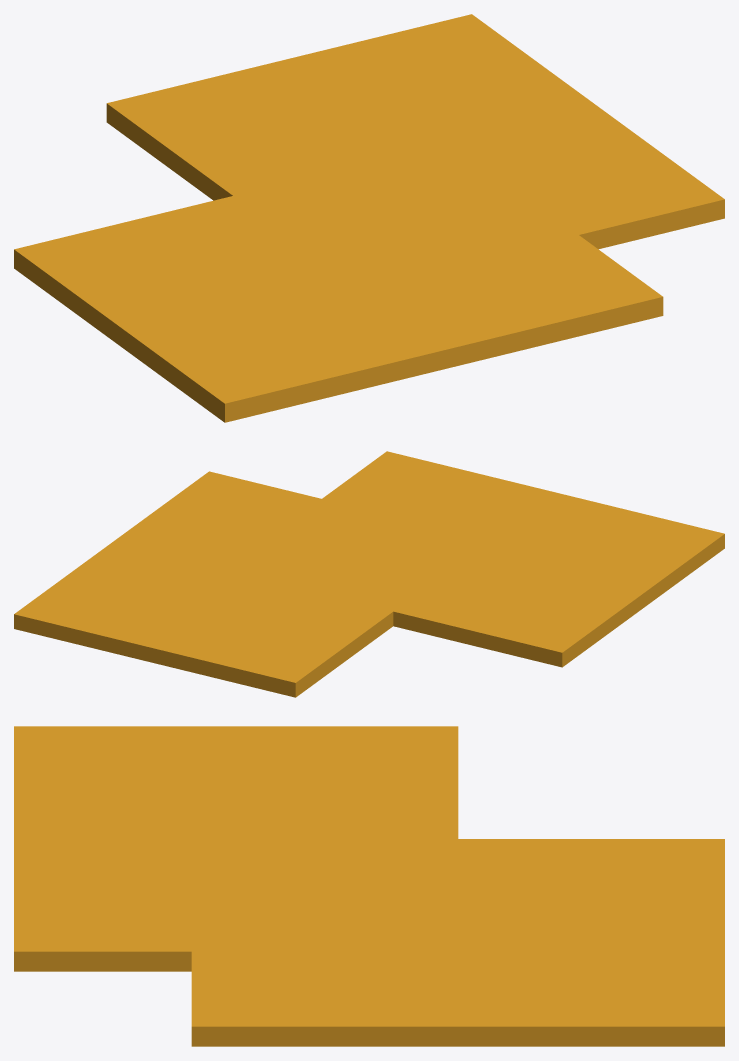
File: SM_Road_Corner.fbx
3 views of the same model, one above another, from view 1: azimuth 30°, elevation 25°; view 2: azimuth 150°, elevation 25°; view 3: azimuth 270°, elevation 25° (orthographic). The views are drawn at different scales.
Parts seen in each view (by area): view 1: SM_Road_Corner; view 2: SM_Road_Corner; view 3: SM_Road_Corner.
Part boxes in pixels (left/top/right/bottom): SM_Road_Corner: left=14, top=14, right=724, bottom=422; SM_Road_Corner: left=14, top=451, right=724, bottom=697; SM_Road_Corner: left=14, top=726, right=724, bottom=1046.
Bounding box in the file's own units: 160 × 160 × 5.
